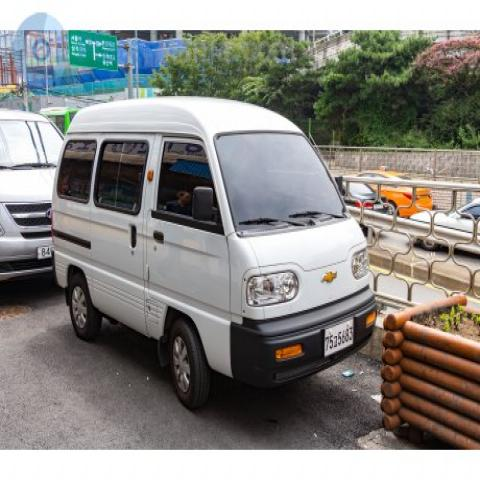LP: (322, 308, 359, 366)
